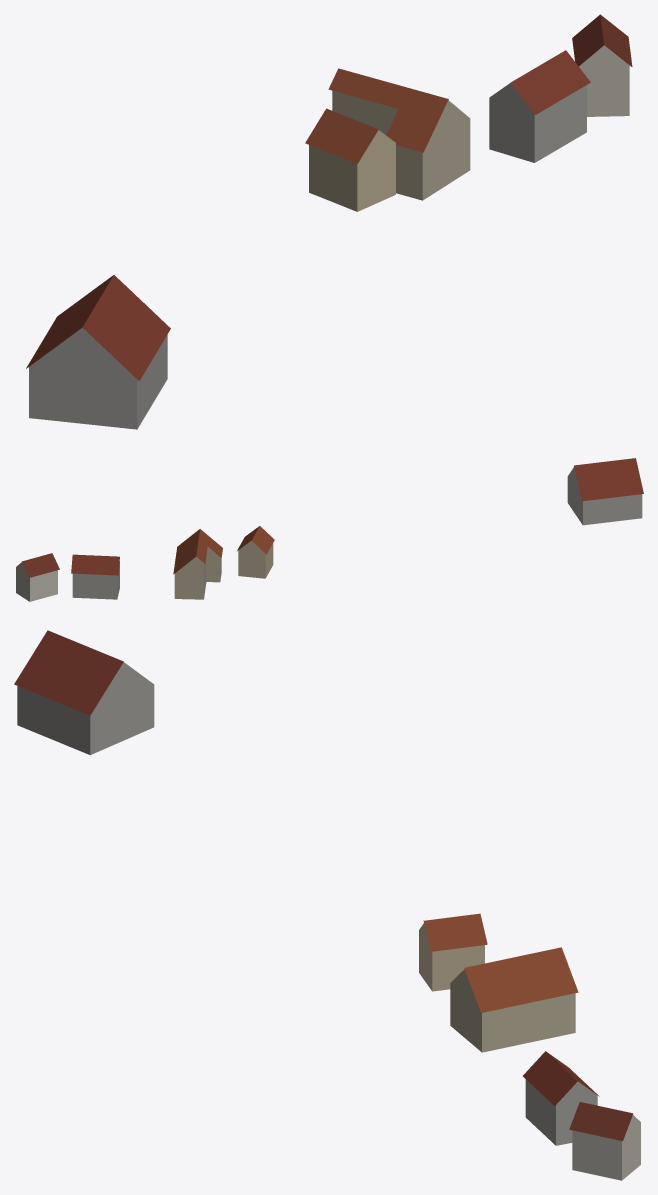
The picture shows the model from 3 angles, top to bottom: view 1: azimuth 30°, elevation 25°; view 2: azimuth 150°, elevation 25°; view 3: azimuth 270°, elevation 25°; orthographic projection. The views are drawn at different scales.
Parts seen in each view (by area): view 1: buildings; view 2: buildings; view 3: buildings.
Part boxes in pixels (<box>): buildings: <box>26,14,632,429</box>; buildings: <box>16,458,643,601</box>; buildings: <box>14,630,640,1180</box>.
Size of the model in its own units: 115 by 27.37 by 81.53.
